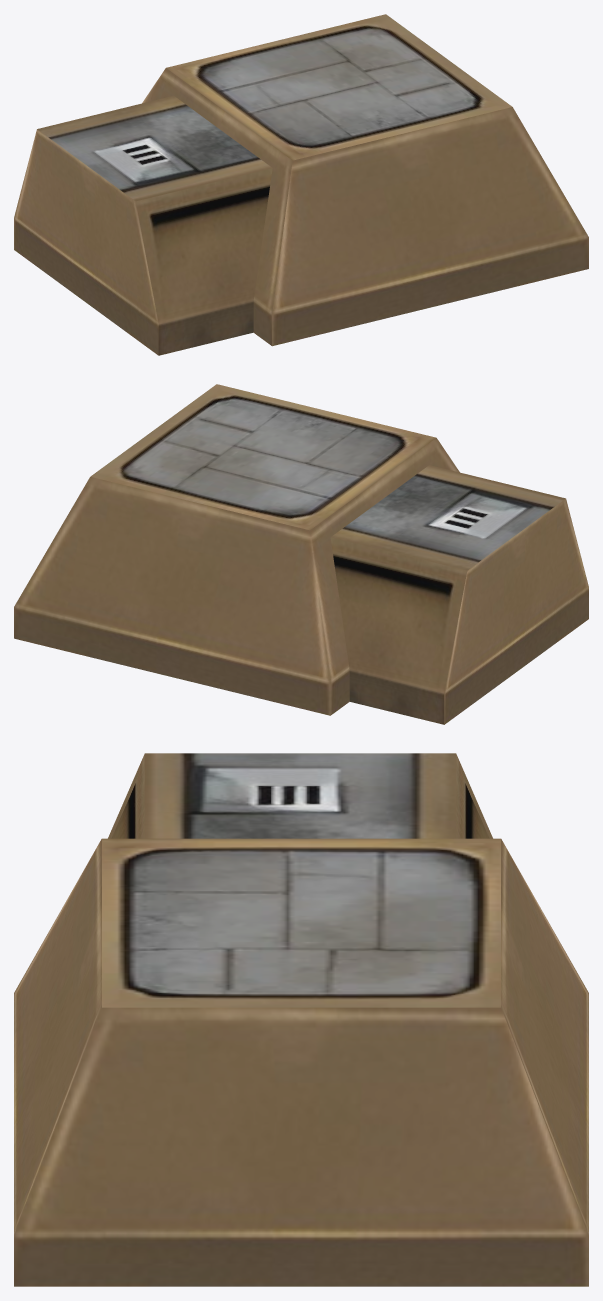
Rendered from hpg_end_hdtex.glb.
The picture shows the model from 3 angles, top to bottom: view 1: azimuth 30°, elevation 25°; view 2: azimuth 150°, elevation 25°; view 3: azimuth 270°, elevation 25°; orthographic projection. The views are drawn at different scales.
Visible parts, largest first — view 1: End; view 2: End; view 3: End.
Boxes of the visible parts, x1=… form: End: x1=14, y1=14, x2=588, y2=355; End: x1=14, y1=384, x2=588, y2=724; End: x1=14, y1=753, x2=588, y2=1286.
Bounding box in the file's own units: 20.88 × 7.44 × 16.03.
Materials: 2 (2 with a texture image).
